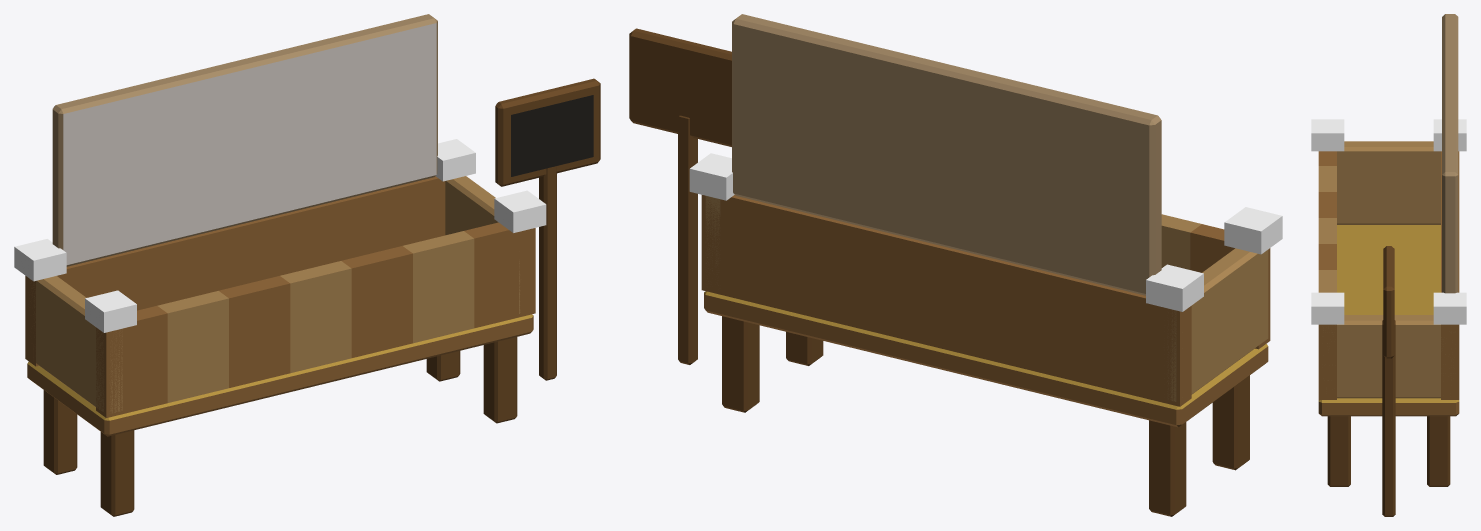
File: sell_trough.glb
The picture shows the model from 3 angles, left to right: view 1: azimuth 30°, elevation 25°; view 2: azimuth 150°, elevation 25°; view 3: azimuth 270°, elevation 25°; orthographic projection. The views are drawn at different scales.
Parts seen in each view (by area): view 1: SellTrough; view 2: SellTrough; view 3: SellTrough.
Part boxes in pixels (x1,y1,x2,y2): SellTrough: (14, 14, 600, 516); SellTrough: (629, 14, 1282, 516); SellTrough: (1311, 14, 1466, 516).
Bounding box in the file's own units: 3.27 × 2.06 × 0.94.
